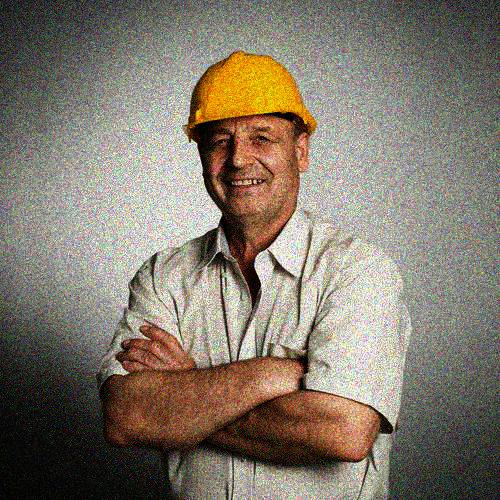helmet: (178, 50, 319, 215)
